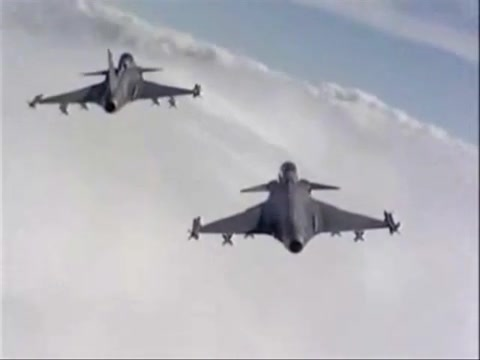aeroplane: (188, 162, 403, 255)
